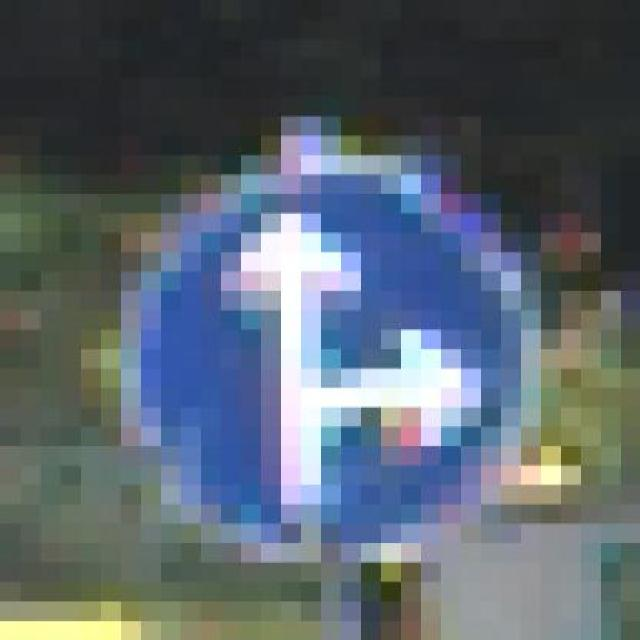Go Straight or Turn Right: (120, 136, 560, 582)
